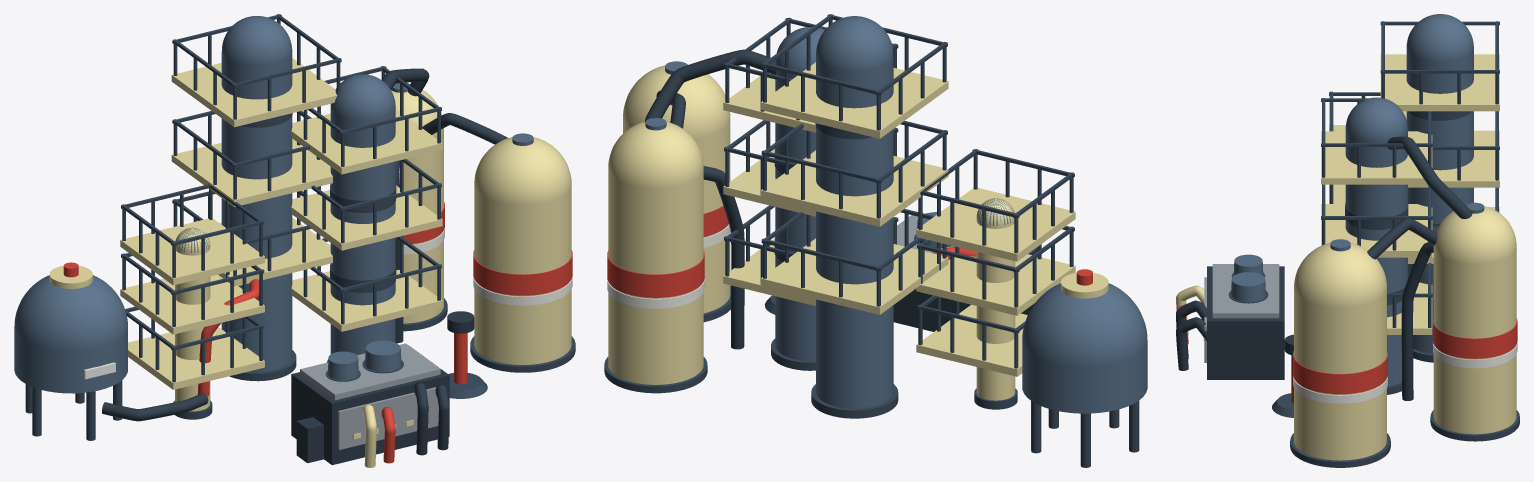
Rendered from refinery.glb.
3 renders of one model, left to right at view 1: azimuth 30°, elevation 25°; view 2: azimuth 150°, elevation 25°; view 3: azimuth 270°, elevation 25°, orthographic. The views are drawn at different scales.
Parts seen in each view (by area): view 1: tank_front_shell, column_a_shell, column_b_shell, dome_tank_dome, tank_front_dome, control_frame, dome_tank_shell, column_c_platform_2_deck, column_a_platform_2_deck, column_a_platform_1_deck, column_c_platform_0_deck, column_b_platform_2_deck (+41 smaller); view 2: column_a_shell, tank_back_shell, dome_tank_dome, dome_tank_shell, column_c_platform_2_deck, column_a_platform_2_deck, column_a_platform_1_deck, column_a_platform_0_deck, tank_back_dome, column_b_shell, column_c_platform_1_deck, tank_front_dome (+28 smaller); view 3: tank_back_shell, tank_front_shell, column_a_shell, control_frame, column_b_shell, tank_front_dome, column_a_platform_2_deck, tank_back_dome, column_b_platform_2_deck, column_a_dome, control_deck, column_b_dome (+26 smaller).
Boxes of the visible parts, bbox=[...] form: tank_front_shell: bbox=[474, 187, 571, 364]; column_a_shell: bbox=[221, 51, 292, 371]; column_b_shell: bbox=[330, 107, 395, 355]; dome_tank_dome: bbox=[14, 275, 127, 351]; tank_front_dome: bbox=[474, 137, 571, 205]; control_frame: bbox=[291, 346, 449, 465]; dome_tank_shell: bbox=[14, 329, 127, 393]; column_c_platform_2_deck: bbox=[120, 218, 264, 285]; column_a_platform_2_deck: bbox=[171, 58, 337, 127]; column_a_platform_1_deck: bbox=[171, 138, 332, 207]; column_c_platform_0_deck: bbox=[128, 327, 264, 389]; column_b_platform_2_deck: bbox=[291, 109, 442, 174]; column_a_shell: bbox=[816, 56, 893, 408]; tank_back_shell: bbox=[608, 170, 703, 384]; dome_tank_dome: bbox=[1022, 283, 1147, 367]; dome_tank_shell: bbox=[1022, 343, 1147, 413]; column_c_platform_2_deck: bbox=[916, 188, 1075, 261]; column_a_platform_2_deck: bbox=[761, 62, 948, 138]; column_a_platform_1_deck: bbox=[761, 150, 948, 226]; column_a_platform_0_deck: bbox=[761, 238, 948, 314]; tank_back_dome: bbox=[608, 121, 703, 188]; column_b_shell: bbox=[775, 70, 815, 360]; column_c_platform_1_deck: bbox=[916, 254, 1075, 315]; tank_front_dome: bbox=[623, 65, 730, 139]; tank_back_shell: bbox=[1433, 247, 1516, 434]; tank_front_shell: bbox=[1294, 290, 1386, 460]; column_a_shell: bbox=[1406, 48, 1473, 353]; control_frame: bbox=[1207, 266, 1284, 379]; column_b_shell: bbox=[1345, 129, 1407, 385]; tank_front_dome: bbox=[1294, 243, 1386, 307]; column_a_platform_2_deck: bbox=[1380, 54, 1499, 111]; tank_back_dome: bbox=[1433, 206, 1516, 263]; column_b_platform_2_deck: bbox=[1321, 131, 1432, 184]; column_a_dome: bbox=[1406, 14, 1473, 61]; control_deck: bbox=[1212, 264, 1279, 318]; column_b_dome: bbox=[1345, 97, 1407, 141].
Size of the model in its own units: 4.31 by 2.81 by 2.66.
